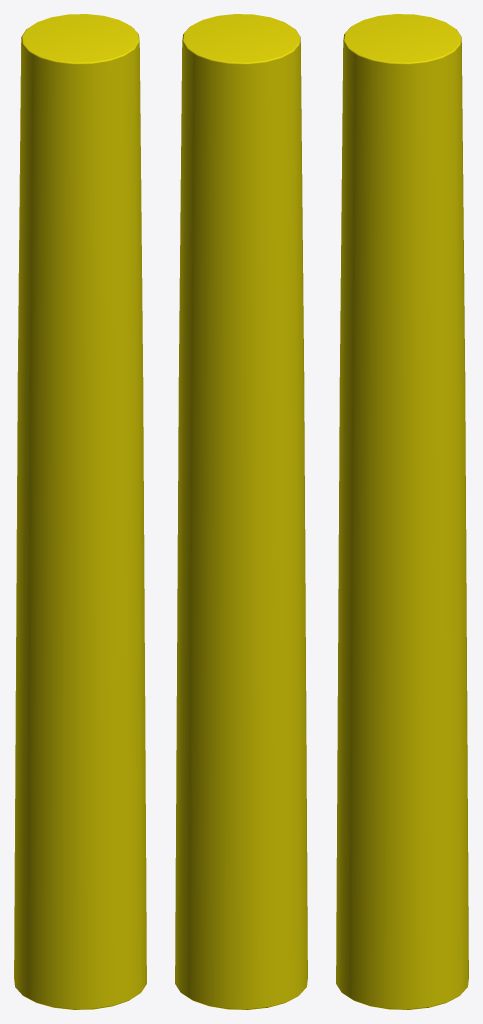
Rendered from Pillar_01B_Lod0.fbx.
The picture shows the model from 3 angles, left to right: view 1: azimuth 30°, elevation 25°; view 2: azimuth 150°, elevation 25°; view 3: azimuth 330°, elevation 25°; orthographic projection.
Visible parts, largest first — view 1: Pillar_01B_Lod0; view 2: Pillar_01B_Lod0; view 3: Pillar_01B_Lod0.
Part boxes in pixels (x1,y1,x2,y2): Pillar_01B_Lod0: (14, 14, 146, 1009); Pillar_01B_Lod0: (175, 14, 307, 1009); Pillar_01B_Lod0: (336, 14, 468, 1009).
Size of the model in its own units: 277 by 2154 by 274.
